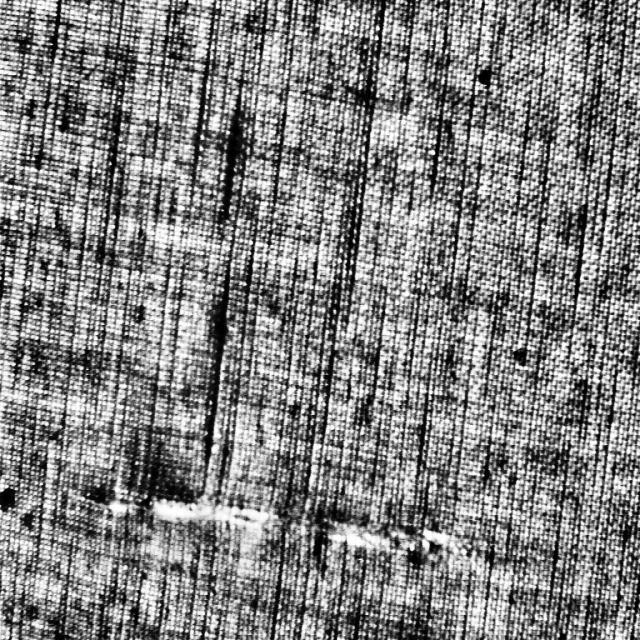gray stitch: (89, 478, 485, 571)
